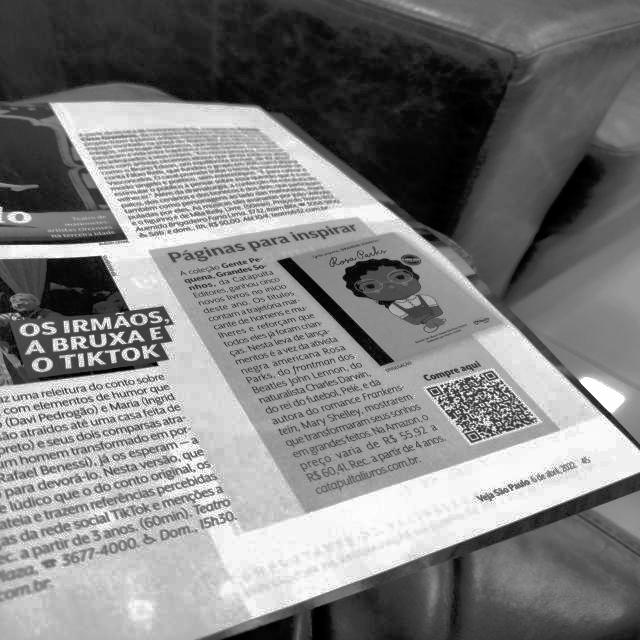qr_code: (427, 370, 538, 443)
